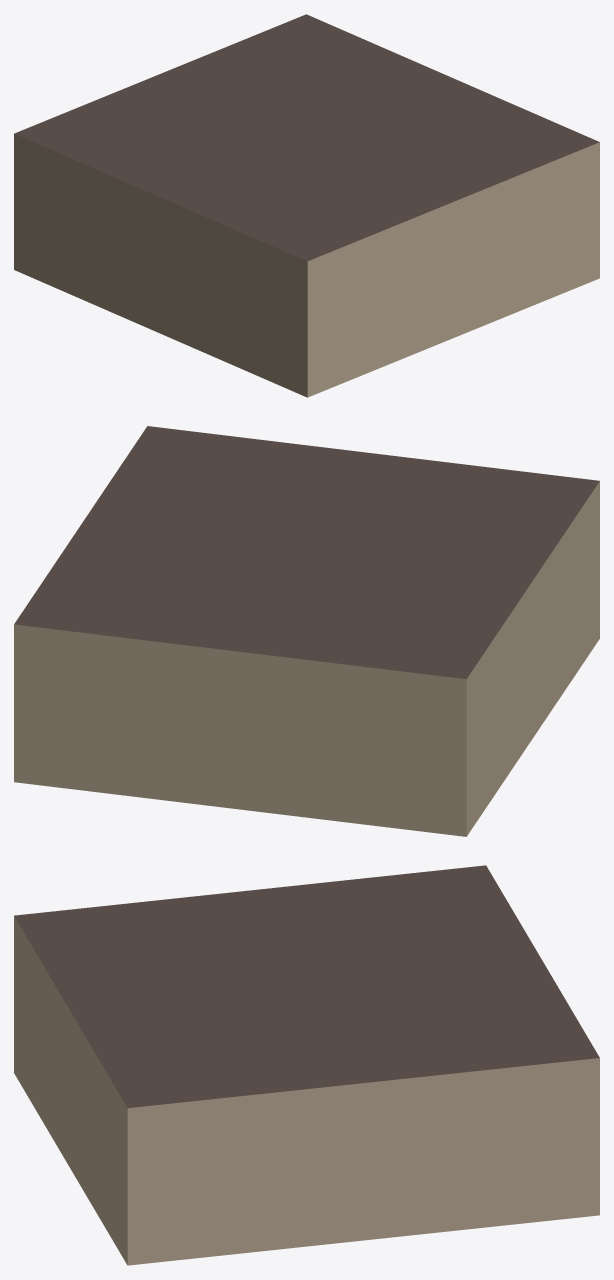
The picture shows the model from 3 angles, top to bottom: view 1: azimuth 30°, elevation 25°; view 2: azimuth 150°, elevation 25°; view 3: azimuth 270°, elevation 25°; orthographic projection. The views are drawn at different scales.
Visible parts, largest first — view 1: HP-w1200813402; view 2: HP-w1200813402; view 3: HP-w1200813402.
Part boxes in pixels (x1=…): HP-w1200813402: x1=14, y1=14, x2=599, y2=397; HP-w1200813402: x1=14, y1=426, x2=599, y2=836; HP-w1200813402: x1=14, y1=865, x2=599, y2=1265.
Bounding box in the file's own units: 29.79 × 9 × 30.37.
